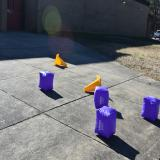cone: (84, 75, 102, 92), (54, 54, 66, 66)
cube: (95, 106, 116, 139), (141, 95, 160, 122), (94, 86, 109, 108), (38, 71, 54, 91)
